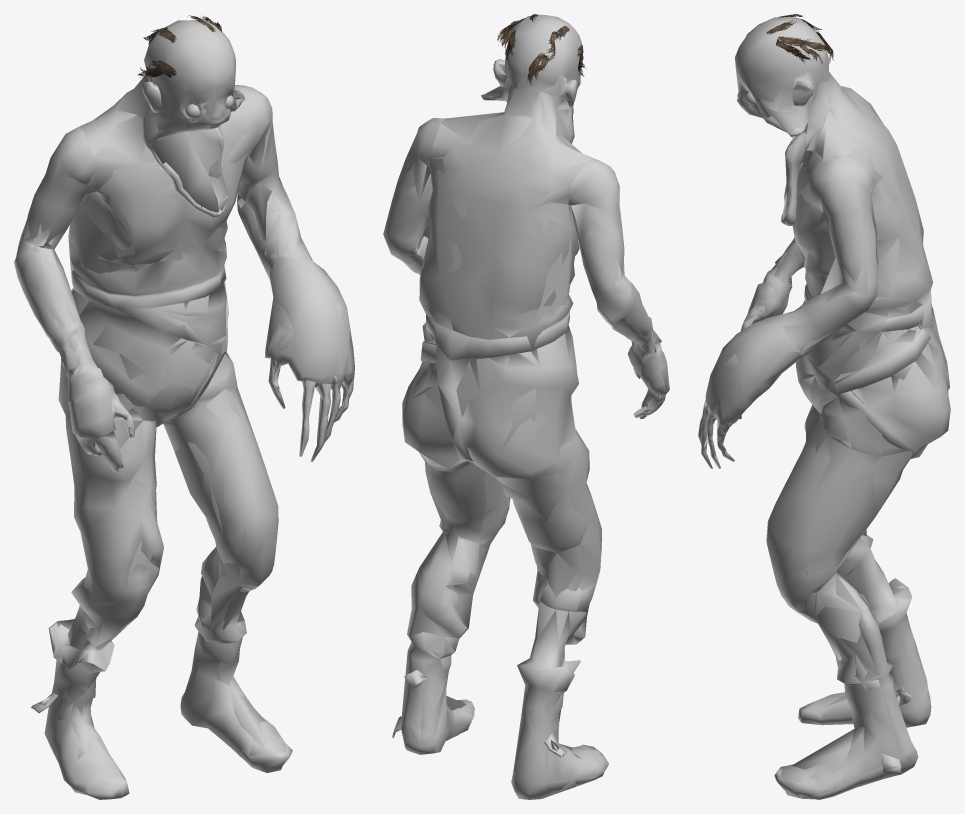
File: cerdo.obj
The picture shows the model from 3 angles, left to right: view 1: azimuth 30°, elevation 25°; view 2: azimuth 150°, elevation 25°; view 3: azimuth 270°, elevation 25°; orthographic projection. The views are drawn at different scales.
Visible parts, largest first — view 1: Object_13, Object_19, Object_21, Object_23, Object_16, Object_14; view 2: Object_13, Object_21, Object_16, Object_19, Object_23, Object_14; view 3: Object_13, Object_19, Object_16, Object_21, Object_23, Object_14.
Part boxes in pixels (x1,y1,x2,y2): Object_13: (14, 19, 354, 799); Object_19: (19, 32, 354, 797); Object_21: (35, 88, 353, 786); Object_23: (35, 61, 347, 768); Object_16: (16, 20, 353, 780); Object_14: (138, 16, 219, 77); Object_13: (383, 14, 669, 793); Object_21: (384, 87, 665, 798); Object_16: (392, 16, 666, 799); Object_19: (385, 26, 668, 793); Object_23: (400, 47, 665, 787); Object_14: (497, 14, 585, 84); Object_13: (699, 17, 950, 796); Object_19: (705, 44, 932, 799); Object_16: (698, 17, 950, 796); Object_21: (700, 66, 945, 799); Object_23: (703, 36, 941, 773); Object_14: (766, 14, 834, 64).
Bounding box in the file's own units: 0.8183 × 2.21 × 0.6885.
